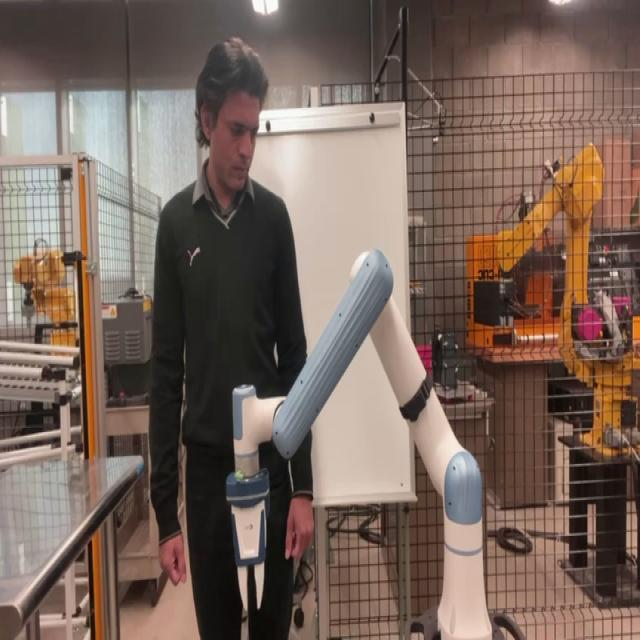robot: (227, 247, 526, 637)
